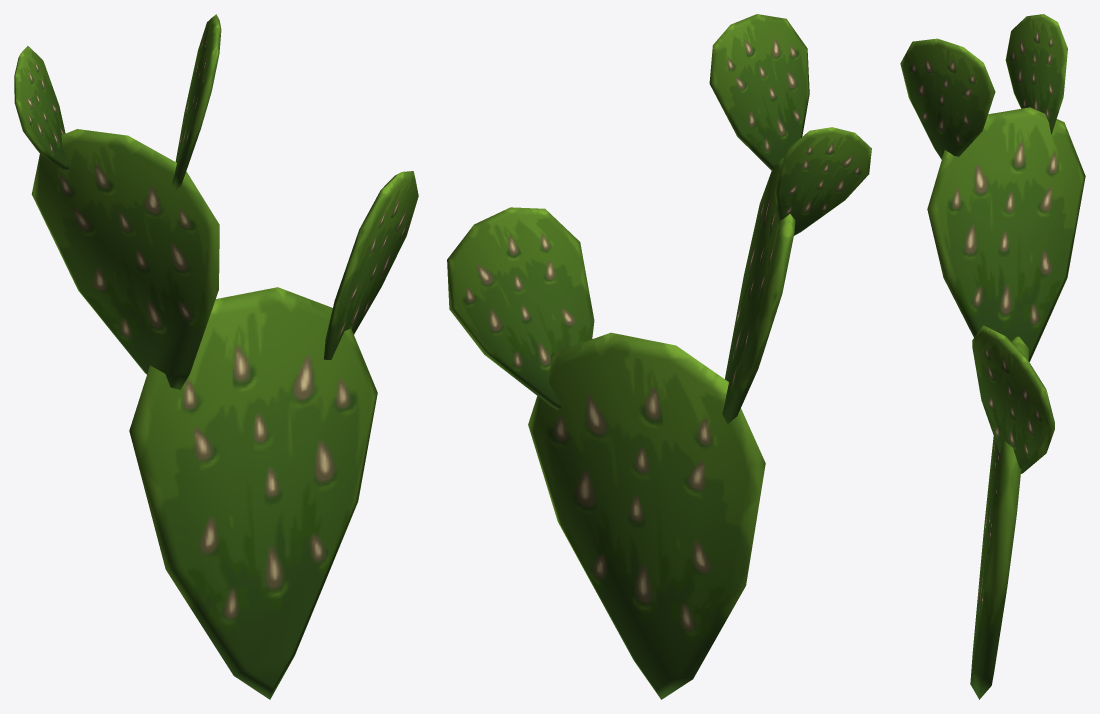
The model's file is Cactus_02.FBX.
3 views of the same model, side by side, from view 1: azimuth 30°, elevation 25°; view 2: azimuth 150°, elevation 25°; view 3: azimuth 270°, elevation 25° (orthographic). The views are drawn at different scales.
Parts seen in each view (by area): view 1: Cactus_02; view 2: Cactus_02; view 3: Cactus_02.
Boxes of the visible parts, x1,y1,x2,y2 form: Cactus_02: (14, 14, 418, 699); Cactus_02: (447, 14, 871, 699); Cactus_02: (900, 14, 1085, 699).
Bounding box in the file's own units: 2 × 3.24 × 0.865.
